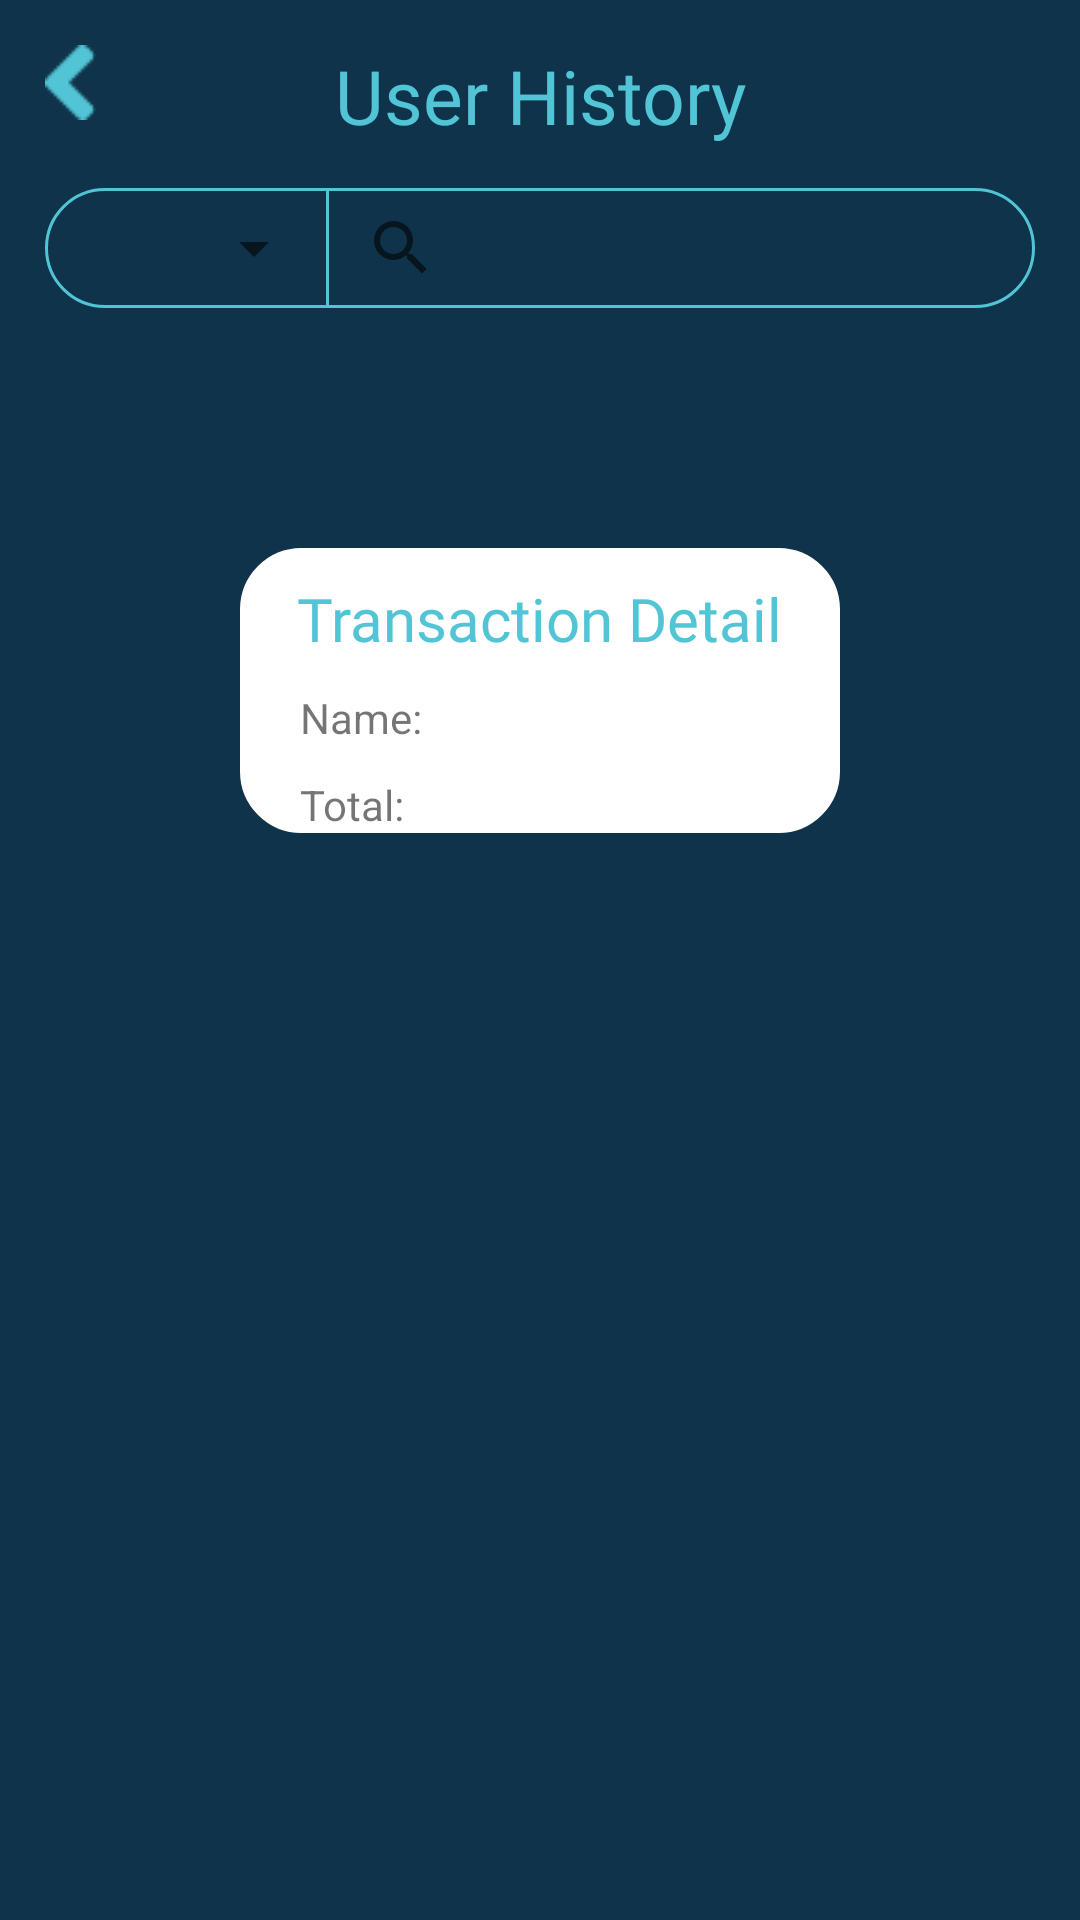

Where to tap for icons on this 1080×1920 app screen, as (x=x, y=y):
back arrow: (x=69, y=82)
